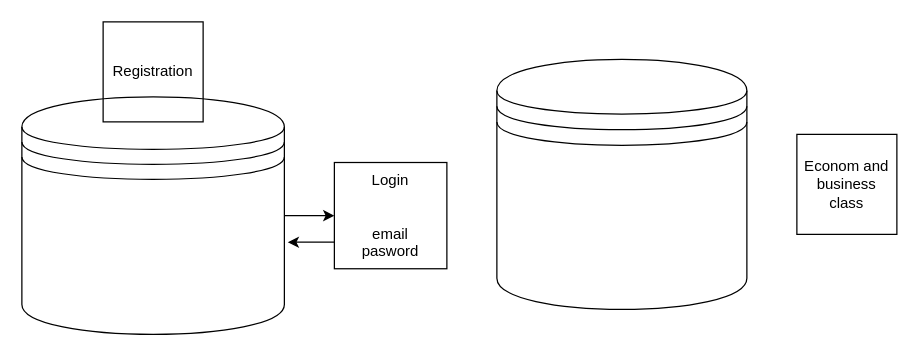
The diagram is 919 pixels wide and 356 high, and some of its shapes have lost their labels. Each missing label, with the centre of its shape:
"From to Country list" belongs at point 621,183.
"User id name surname email pasword" belongs at point 152,215.
